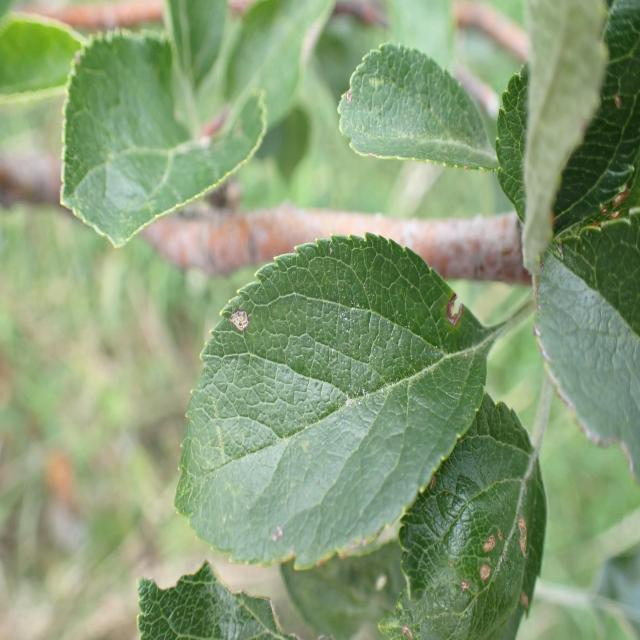frog-eye-leaf-spot: (172, 231, 489, 569), (377, 389, 547, 639)
